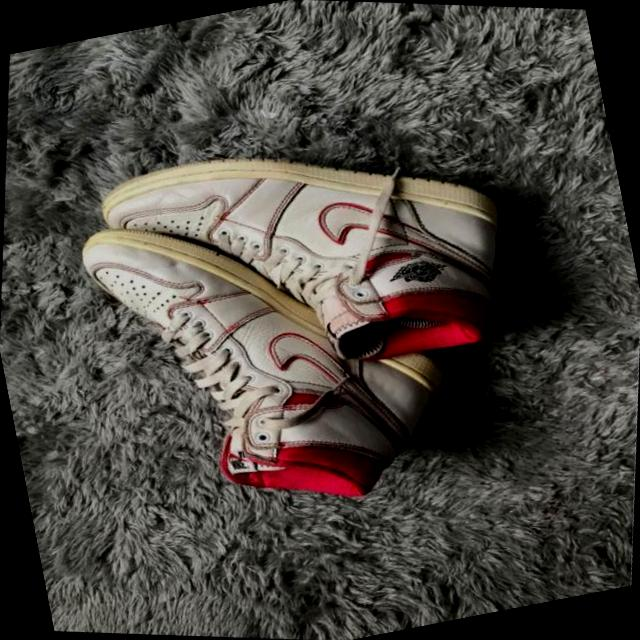nike_original_jordan: (24, 152, 514, 569), (54, 74, 541, 442)
